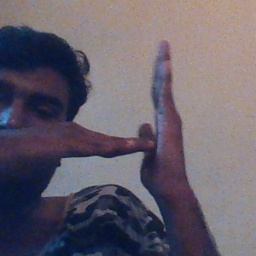Z: (88, 30, 194, 199)
